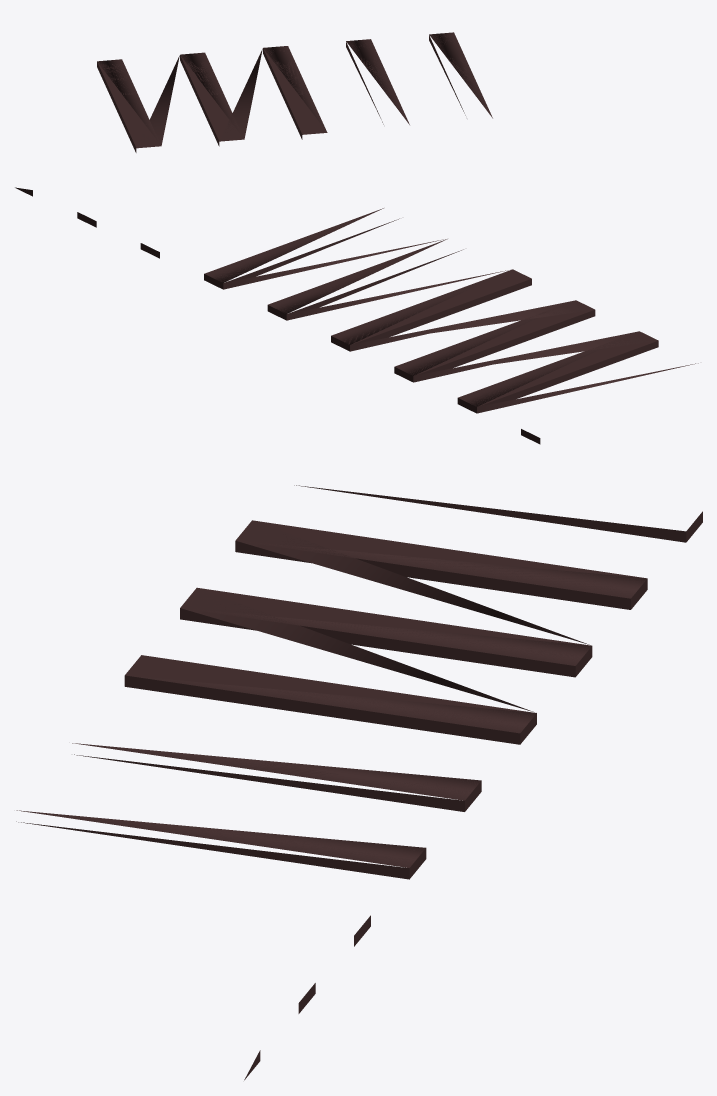
3 views of the same model, one above another, from view 1: azimuth 30°, elevation 25°; view 2: azimuth 150°, elevation 25°; view 3: azimuth 270°, elevation 25° (orthographic). The views are drawn at different scales.
Size of the model in its own units: 7.2 by 0.064 by 3.51.
